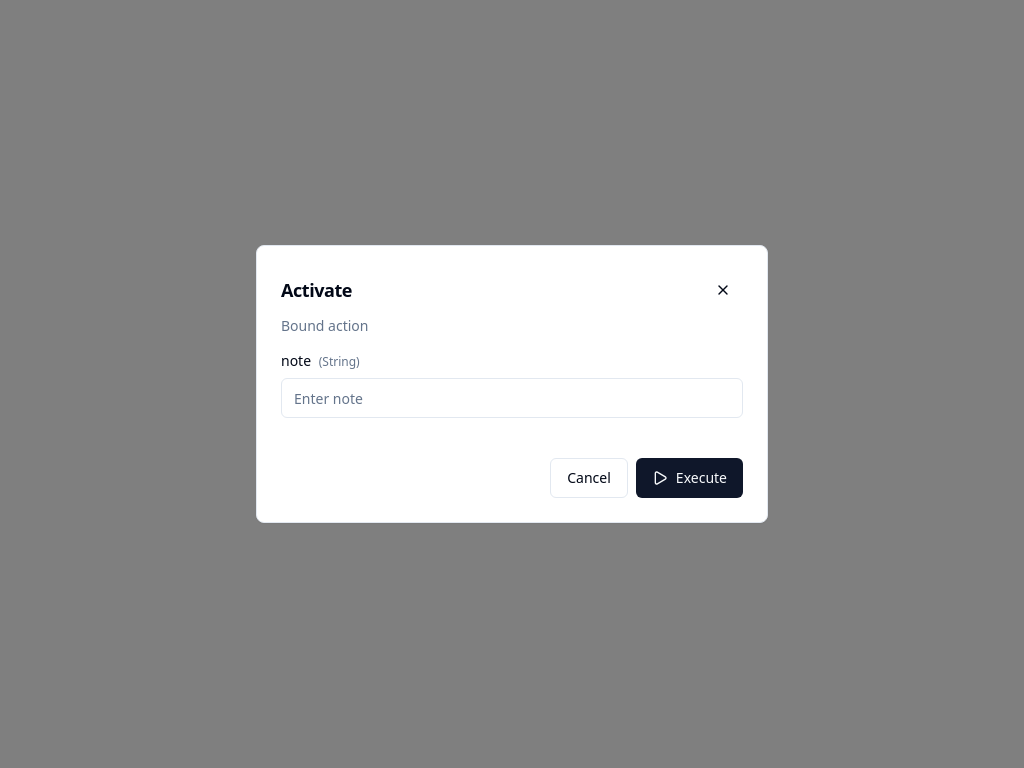
Test: ActionDialog › resets form when dialog reopens (open changes false→true)
Click the button "Execute": click(689, 478) top-left (636, 458), bottom-right (743, 498)
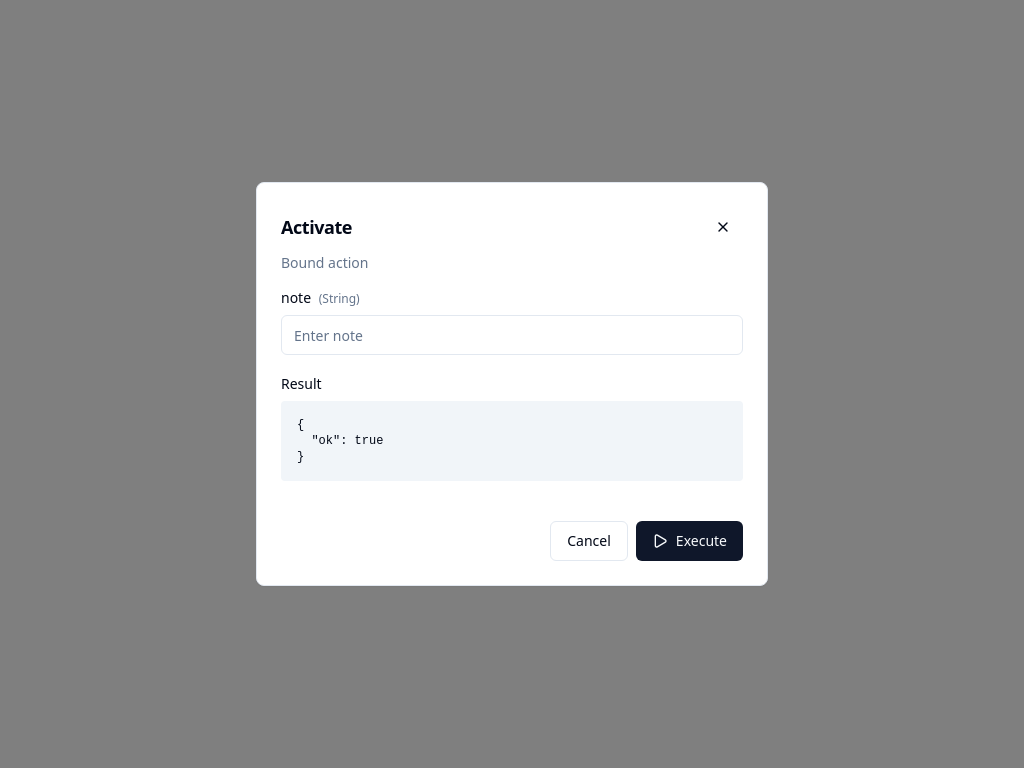
Expected: the text "{ \"ok\": true }" is shown, top-left (281, 401), bottom-right (743, 481)
